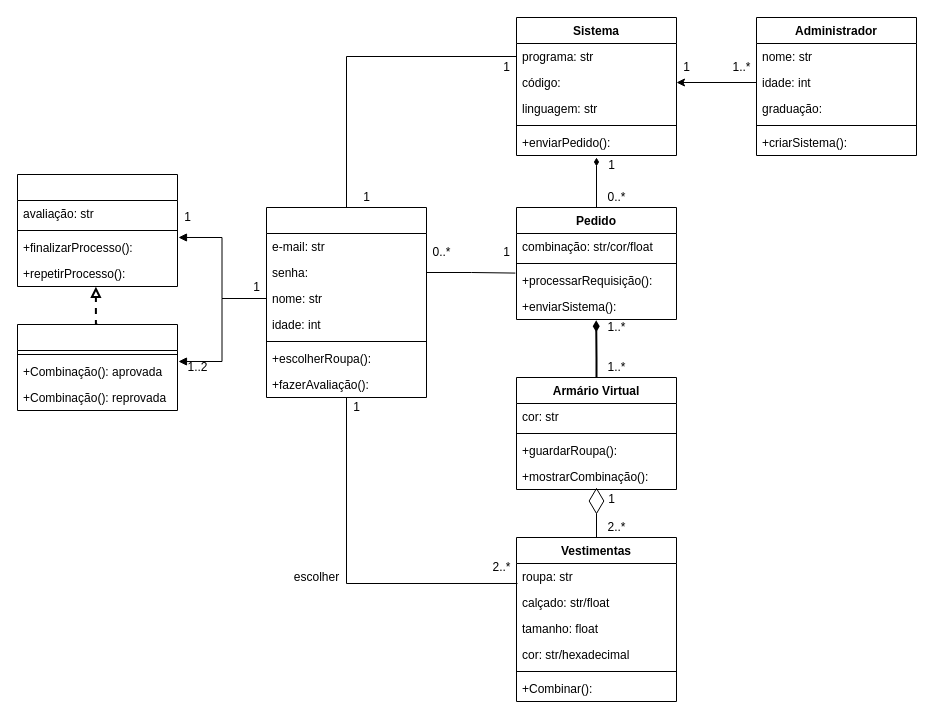
Image size: 934x722. Some labels were removed from this diagram. The box of each missing label's shape, as (x1, y1, x2, y2) in pixels:
Avaliação: (16, 324, 178, 410)
Conclusão: (16, 174, 178, 286)
Usuário: (266, 206, 426, 398)
